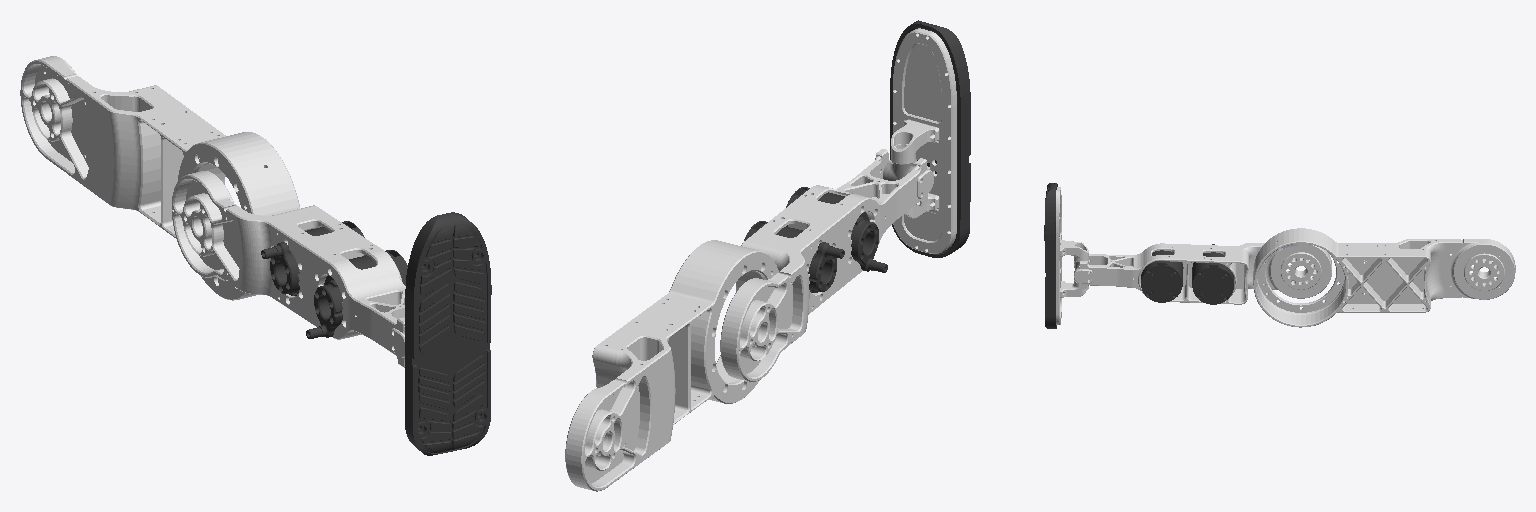
robot.urdf — right_leg:
<!--URDF generated by ONSHAPE BY PTC INC, 1.222-->
<robot name="right_leg">
    <link name="ankle_output_rotor">
        <inertial>
            <mass value="8.40688e-06" />
            <origin xyz="-9.67116e-05 -0.0163581 0.0065907" rpy="0 -0 0" />
            <inertia ixx="1.41838e-09" ixy="2.32387e-12" ixz="-6.50814e-13" iyy="9.10836e-10" iyz="1.94519e-10" izz="1.88528e-09" />
        </inertial>
        <visual>
            <origin xyz="0 -0.0135 0" rpy="0 -0 0" />
            <geometry>
                <mesh filename="package://rpo_description/models/right_leg/meshes/Ankle_Output_Rotor.stl" scale="1 1 1" />
            </geometry>
            <material name="0.301961_0.301961_0.301961_0.000000_0.000000">
                <color rgba="0.301961 0.301961 0.301961 1" />
            </material>
        </visual>
    </link>
    <link name="ankle_output_rotor_1">
        <inertial>
            <mass value="8.40688e-06" />
            <origin xyz="-9.67116e-05 0.0171419 0.000590696" rpy="0 -0 0" />
            <inertia ixx="1.41838e-09" ixy="2.32387e-12" ixz="-6.50814e-13" iyy="9.10836e-10" iyz="1.94519e-10" izz="1.88528e-09" />
        </inertial>
        <visual>
            <origin xyz="-1.11022e-16 0.02 -0.006" rpy="0 -0 0" />
            <geometry>
                <mesh filename="package://rpo_description/models/right_leg/meshes/Ankle_Output_Rotor.stl" scale="1 1 1" />
            </geometry>
            <material name="0.301961_0.301961_0.301961_0.000000_0.000000">
                <color rgba="0.301961 0.301961 0.301961 1" />
            </material>
        </visual>
    </link>
    <link name="ankle_roll_connector">
        <inertial>
            <mass value="0.0244676" />
            <origin xyz="-0.0135883 1.17113e-10 0.00894033" rpy="0 -0 0" />
            <inertia ixx="1.96726e-06" ixy="-2.15704e-13" ixz="6.97914e-07" iyy="3.58959e-06" iyz="-1.66756e-13" izz="4.22144e-06" />
        </inertial>
        <visual>
            <origin xyz="0 0 0" rpy="0 -0 0" />
            <geometry>
                <mesh filename="package://rpo_description/models/right_leg/meshes/Ankle_Roll_Connector.stl" scale="1 1 1" />
            </geometry>
            <material name="0.901961_0.901961_0.901961_0.000000_0.000000">
                <color rgba="0.901961 0.901961 0.901961 1" />
            </material>
        </visual>
    </link>
    <link name="ankle_roll_connector_1">
        <inertial>
            <mass value="0.0244676" />
            <origin xyz="0.0164117 -0.0135 -0.00205967" rpy="0 -0 0" />
            <inertia ixx="1.96726e-06" ixy="-2.15704e-13" ixz="6.97914e-07" iyy="3.58959e-06" iyz="-1.66756e-13" izz="4.22144e-06" />
        </inertial>
        <visual>
            <origin xyz="0.03 -0.0135 -0.011" rpy="0 -0 0" />
            <geometry>
                <mesh filename="package://rpo_description/models/right_leg/meshes/Ankle_Roll_Connector.stl" scale="1 1 1" />
            </geometry>
            <material name="0.901961_0.901961_0.901961_0.000000_0.000000">
                <color rgba="0.901961 0.901961 0.901961 1" />
            </material>
        </visual>
    </link>
    <link name="calf_bearing_lock">
        <inertial>
            <mass value="0.00539699" />
            <origin xyz="-0.0065 0.00104518 0.0115429" rpy="0 -0 0" />
            <inertia ixx="2.2032e-07" ixy="-9.30297e-14" ixz="-3.46566e-14" iyy="4.8131e-07" iyz="-3.24215e-08" izz="3.21263e-07" />
        </inertial>
        <visual>
            <origin xyz="-0.0065 0.002575 0.011" rpy="0 -0 0" />
            <geometry>
                <mesh filename="package://rpo_description/models/right_leg/meshes/Calf_Bearing_Lock.stl" scale="1 1 1" />
            </geometry>
            <material name="0.901961_0.901961_0.901961_0.000000_0.000000">
                <color rgba="0.901961 0.901961 0.901961 1" />
            </material>
        </visual>
    </link>
    <link name="calf_bearing_lock_1">
        <inertial>
            <mass value="0.00539699" />
            <origin xyz="0.0065 0.00104518 0.0115429" rpy="0 -0 0" />
            <inertia ixx="2.2032e-07" ixy="-9.30297e-14" ixz="-3.46566e-14" iyy="4.8131e-07" iyz="-3.24215e-08" izz="3.21263e-07" />
        </inertial>
        <visual>
            <origin xyz="0.0065 0.002575 0.011" rpy="0 -0 0" />
            <geometry>
                <mesh filename="package://rpo_description/models/right_leg/meshes/Calf_Bearing_Lock.stl" scale="1 1 1" />
            </geometry>
            <material name="0.901961_0.901961_0.901961_0.000000_0.000000">
                <color rgba="0.901961 0.901961 0.901961 1" />
            </material>
        </visual>
    </link>
    <link name="cross_bearing">
        <inertial>
            <mass value="0.106467" />
            <origin xyz="0.02 1.59792e-08 -7.24723e-10" rpy="-0.0453231 0 0" />
            <inertia ixx="1.09387e-05" ixy="0" ixz="-3.96261e-12" iyy="1.09387e-05" iyz="2.74815e-12" izz="1.83474e-05" />
        </inertial>
        <visual>
            <origin xyz="0.02 0 0" rpy="-0.0453231 0 0" />
            <geometry>
                <mesh filename="package://rpo_description/models/right_leg/meshes/Cross_Bearing.stl" scale="1 1 1" />
            </geometry>
            <material name="0.647059_0.647059_0.647059_0.000000_0.000000">
                <color rgba="0.647059 0.647059 0.647059 1" />
            </material>
        </visual>
    </link>
    <link name="dm_j10010l_controller_cover">
        <inertial>
            <mass value="0.0654346" />
            <origin xyz="0.000330359 -0.016759 -0.0004492" rpy="0 -0 0" />
            <inertia ixx="3.4306e-05" ixy="-8.34269e-09" ixz="-3.55418e-09" iyy="8.55932e-05" iyz="1.30568e-08" izz="5.25956e-05" />
        </inertial>
        <visual>
            <origin xyz="0 0 0" rpy="0 -0 0" />
            <geometry>
                <mesh filename="package://rpo_description/models/right_leg/meshes/DM_J10010L_Controller_Cover.stl" scale="1 1 1" />
            </geometry>
            <material name="0.301961_0.301961_0.301961_0.000000_0.000000">
                <color rgba="0.301961 0.301961 0.301961 1" />
            </material>
        </visual>
    </link>
    <link name="dm_j10010l_rotor__1_">
        <inertial>
            <mass value="1e-09" />
            <origin xyz="0 0.0659355 0" rpy="0 -0 0" />
            <inertia ixx="4e-14" ixy="0" ixz="0" iyy="4e-14" iyz="0" izz="4e-14" />
        </inertial>
    </link>
    <link name="dm_j10010l_side_cover">
        <inertial>
            <mass value="1.14945e-06" />
            <origin xyz="-0.0562683 -0.0443987 0.015077" rpy="0 -0 0" />
            <inertia ixx="1.73548e-10" ixy="-2.40819e-13" ixz="-1.52799e-11" iyy="6.36914e-11" iyz="6.4655e-14" izz="1.20616e-10" />
        </inertial>
        <visual>
            <origin xyz="0 0 0" rpy="0 -0 0" />
            <geometry>
                <mesh filename="package://rpo_description/models/right_leg/meshes/DM_J10010L_Side_Cover.stl" scale="1 1 1" />
            </geometry>
            <material name="0.796078_0.823529_0.937255_0.000000_0.000000">
                <color rgba="0.796078 0.823529 0.937255 1" />
            </material>
        </visual>
    </link>
    <link name="dm_j10010l_stator">
        <inertial>
            <mass value="0.898759" />
            <origin xyz="0.000609351 -0.0450242 -7.18945e-06" rpy="0 -0 0" />
            <inertia ixx="0.00108312" ixy="-2.87816e-06" ixz="-3.7651e-06" iyy="0.00191736" iyz="-1.37112e-06" izz="0.00106089" />
        </inertial>
        <visual>
            <origin xyz="0 0 0" rpy="0 -0 0" />
            <geometry>
                <mesh filename="package://rpo_description/models/right_leg/meshes/DM_J10010L_Stator.stl" scale="1 1 1" />
            </geometry>
        </visual>
    </link>
    <link name="dm_j4340_controller_cover">
        <inertial>
            <mass value="0.0142077" />
            <origin xyz="-0.00195101 0.0545971 -3.68604e-07" rpy="0 -0 0" />
            <inertia ixx="2.95073e-06" ixy="-3.07787e-08" ixz="-5.54113e-12" iyy="6.3453e-06" iyz="-5.15569e-12" izz="3.47772e-06" />
        </inertial>
        <visual>
            <origin xyz="0 0 0" rpy="0 -0 0" />
            <geometry>
                <mesh filename="package://rpo_description/models/right_leg/meshes/DM_J4340_Controller_Cover.stl" scale="1 1 1" />
            </geometry>
            <material name="0.301961_0.301961_0.301961_0.000000_0.000000">
                <color rgba="0.301961 0.301961 0.301961 1" />
            </material>
        </visual>
    </link>
    <link name="dm_j4340_controller_cover_1">
        <inertial>
            <mass value="0.0142077" />
            <origin xyz="-0.00195101 0.0545971 -3.68604e-07" rpy="0 -0 0" />
            <inertia ixx="2.95073e-06" ixy="-3.07787e-08" ixz="-5.54113e-12" iyy="6.3453e-06" iyz="-5.15569e-12" izz="3.47772e-06" />
        </inertial>
        <visual>
            <origin xyz="0 0 0" rpy="0 -0 0" />
            <geometry>
                <mesh filename="package://rpo_description/models/right_leg/meshes/DM_J4340_Controller_Cover.stl" scale="1 1 1" />
            </geometry>
            <material name="0.301961_0.301961_0.301961_0.000000_0.000000">
                <color rgba="0.301961 0.301961 0.301961 1" />
            </material>
        </visual>
    </link>
    <link name="dm_j4340_motor">
        <inertial>
            <mass value="0.995728" />
            <origin xyz="-1.22678e-18 0.0254278 -8.25923e-19" rpy="0 -0 0" />
            <inertia ixx="0.000398107" ixy="0" ixz="-8.86886e-08" iyy="0.000402328" iyz="0" izz="0.000398414" />
        </inertial>
        <visual>
            <origin xyz="0 -0.00025 0" rpy="0 -0 0" />
            <geometry>
                <mesh filename="package://rpo_description/models/right_leg/meshes/DM_J4340_Motor.stl" scale="1 1 1" />
            </geometry>
            <material name="0.301961_0.301961_0.301961_0.000000_0.000000">
                <color rgba="0.301961 0.301961 0.301961 1" />
            </material>
        </visual>
    </link>
    <link name="dm_j4340_motor_1">
        <inertial>
            <mass value="0.995728" />
            <origin xyz="-1.22678e-18 0.0254278 -8.25923e-19" rpy="0 -0 0" />
            <inertia ixx="0.000398107" ixy="0" ixz="-8.86886e-08" iyy="0.000402328" iyz="0" izz="0.000398414" />
        </inertial>
        <visual>
            <origin xyz="0 -0.00025 0" rpy="0 -0 0" />
            <geometry>
                <mesh filename="package://rpo_description/models/right_leg/meshes/DM_J4340_Motor.stl" scale="1 1 1" />
            </geometry>
            <material name="0.301961_0.301961_0.301961_0.000000_0.000000">
                <color rgba="0.301961 0.301961 0.301961 1" />
            </material>
        </visual>
    </link>
    <link name="foot">
        <inertial>
            <mass value="0.145168" />
            <origin xyz="-0.0459727 0.0135 0.00191236" rpy="0 -0 0" />
            <inertia ixx="5.63586e-05" ixy="1.01226e-10" ixz="1.23165e-08" iyy="0.000441189" iyz="-1.16112e-10" izz="0.000495552" />
        </inertial>
        <visual>
            <origin xyz="-0.011 0.0135 -0.002" rpy="0 -0 0" />
            <geometry>
                <mesh filename="package://rpo_description/models/right_leg/meshes/Foot.stl" scale="1 1 1" />
            </geometry>
            <material name="0.901961_0.901961_0.901961_0.000000_0.000000">
                <color rgba="0.901961 0.901961 0.901961 1" />
            </material>
        </visual>
    </link>
    <link name="foot_pad">
        <inertial>
            <mass value="0.175914" />
            <origin xyz="-0.0239242 -0.0686595 -0.0027759" rpy="0 -0 0" />
            <inertia ixx="0.00059297" ixy="3.03267e-10" ixz="-1.40779e-11" iyy="6.76655e-05" iyz="-2.0499e-06" izz="0.000654898" />
        </inertial>
        <visual>
            <origin xyz="-2.02177 0.382688 -0.01" rpy="0 -0 0" />
            <geometry>
                <mesh filename="package://rpo_description/models/right_leg/meshes/Foot_Pad.stl" scale="1 1 1" />
            </geometry>
            <material name="0.301961_0.301961_0.301961_0.000000_0.000000">
                <color rgba="0.301961 0.301961 0.301961 1" />
            </material>
        </visual>
    </link>
    <link name="lower_leg">
        <inertial>
            <mass value="0.652933" />
            <origin xyz="0.00498479 -0.120851 -0.00700196" rpy="0 -0 0.0412216" />
            <inertia ixx="0.00564015" ixy="2.11402e-08" ixz="2.48546e-09" iyy="0.000484705" iyz="-0.000583008" izz="0.00570798" />
        </inertial>
        <visual>
            <origin xyz="1.87219e-17 5.56356e-16 0" rpy="0 -0 0.0412216" />
            <geometry>
                <mesh filename="package://rpo_description/models/right_leg/meshes/Lower_Leg.stl" scale="1 1 1" />
            </geometry>
            <material name="0.901961_0.901961_0.901961_0.000000_0.000000">
                <color rgba="0.901961 0.901961 0.901961 1" />
            </material>
        </visual>
    </link>
    <link name="mate_connector_1">
        <inertial>
            <mass value="1e-09" />
            <origin xyz="0 0 0" rpy="0 -0 0" />
            <inertia ixx="4e-14" ixy="0" ixz="0" iyy="4e-14" iyz="0" izz="4e-14" />
        </inertial>
    </link>
    <link name="root" />
    <link name="upper_leg">
        <inertial>
            <mass value="0.862647" />
            <origin xyz="-5.96863e-06 -0.134451 -0.00677772" rpy="0 -0 0" />
            <inertia ixx="0.00774349" ixy="-7.57053e-07" ixz="-7.59938e-08" iyy="0.00111424" iyz="-0.00055949" izz="0.00842932" />
        </inertial>
        <visual>
            <origin xyz="-1.04228e-18 -1.3045e-14 -0.001" rpy="0 -0 0" />
            <geometry>
                <mesh filename="package://rpo_description/models/right_leg/meshes/Upper_Leg.stl" scale="1 1 1" />
            </geometry>
            <material name="0.901961_0.901961_0.901961_0.000000_0.000000">
                <color rgba="0.901961 0.901961 0.901961 1" />
            </material>
        </visual>
    </link>
    <joint name="fastened_1" type="fixed">
        <origin xyz="0 0 0" rpy="0 -1.5708 0" />
        <axis xyz="0 0 1" />
        <parent link="root" />
        <child link="upper_leg" />
    </joint>
    <joint name="fastened_10" type="fixed">
        <origin xyz="-0.0171489 -0.190869 0.0055" rpy="-8.26722e-16 -3.55435e-16 -1.52957" />
        <axis xyz="0 0 -1" />
        <parent link="lower_leg" />
        <child link="ankle_output_rotor_1" />
    </joint>
    <joint name="fastened_12" type="fixed">
        <origin xyz="8.88178e-16 -0.00025 0.0135" rpy="1.5708 -4.9995e-16 -1.68719e-16" />
        <axis xyz="-0 -0 -1" />
        <parent link="dm_j4340_motor" />
        <child link="ankle_output_rotor" />
    </joint>
    <joint name="fastened_2" type="fixed">
        <origin xyz="-2.77556e-17 -0.25 0.0035" rpy="-1.5708 -0 3.14159" />
        <axis xyz="0 -1 0" />
        <parent link="upper_leg" />
        <child link="dm_j10010l_rotor__1_" />
    </joint>
    <joint name="fastened_3" type="fixed">
        <origin xyz="0.00782989 -0.189839 -0.0005" rpy="-1.5708 5.55112e-17 1.61202" />
        <axis xyz="0 -1 0" />
        <parent link="lower_leg" />
        <child link="dm_j4340_motor_1" />
    </joint>
    <joint name="fastened_4" type="fixed">
        <origin xyz="0.00494519 -0.119898 -0.0005" rpy="-1.5708 -2.22045e-16 1.61202" />
        <axis xyz="0 -1 0" />
        <parent link="lower_leg" />
        <child link="dm_j4340_motor" />
    </joint>
    <joint name="fastened_5" type="fixed">
        <origin xyz="0.0054152 -0.289022 0.002575" rpy="-1.5708 -1.66533e-16 -3.10037" />
        <axis xyz="0 1 0" />
        <parent link="lower_leg" />
        <child link="calf_bearing_lock" />
    </joint>
    <joint name="fastened_6" type="fixed">
        <origin xyz="0.0054152 -0.289022 -0.041275" rpy="1.5708 3.81639e-17 0.0412216" />
        <axis xyz="0 1 0" />
        <parent link="lower_leg" />
        <child link="calf_bearing_lock_1" />
    </joint>
    <joint name="fastened_7" type="fixed">
        <origin xyz="-0.03 -0.0135 0.011" rpy="0 -1.5708 1.32271e-15" />
        <axis xyz="-0 -0 -1" />
        <parent link="ankle_roll_connector" />
        <child link="foot" />
    </joint>
    <joint name="fastened_8" type="fixed">
        <origin xyz="-0.062 6.50868e-15 1.11022e-16" rpy="0 1.5708 -3.14159" />
        <axis xyz="-1 -0 -0" />
        <parent link="foot" />
        <child link="ankle_roll_connector_1" />
    </joint>
    <joint name="fastened_9" type="fixed">
        <origin xyz="-0.1195 -0.0104242 0.008" rpy="-3.14159 1.07382e-15 -1.5708" />
        <axis xyz="-0 -0 1" />
        <parent link="foot" />
        <child link="foot_pad" />
    </joint>
    <joint name="group_1_fastened_joint" type="fixed">
        <origin xyz="0 -0.00025 0" rpy="-1.92593e-34 6.04485e-67 6.27733e-33" />
        <axis xyz="0 0 1" />
        <parent link="dm_j4340_motor_1" />
        <child link="dm_j4340_controller_cover_1" />
    </joint>
    <joint name="group_1_fastened_joint_1" type="fixed">
        <origin xyz="0 0.0659355 0" rpy="0 -0 0" />
        <axis xyz="0 0 1" />
        <parent link="dm_j10010l_rotor__1_" />
        <child link="dm_j10010l_stator" />
    </joint>
    <joint name="group_1_fastened_joint_2" type="fixed">
        <origin xyz="0 0.0659355 0" rpy="0 -0 0" />
        <axis xyz="-0 -0 -1" />
        <parent link="dm_j10010l_rotor__1_" />
        <child link="dm_j10010l_side_cover" />
    </joint>
    <joint name="group_1_fastened_joint_3" type="fixed">
        <origin xyz="0 0 0" rpy="0 -0 0" />
        <axis xyz="-0 -0 -1" />
        <parent link="dm_j10010l_side_cover" />
        <child link="dm_j10010l_controller_cover" />
    </joint>
    <joint name="group_1_fastened_joint_4" type="fixed">
        <origin xyz="0 -0.00025 0" rpy="-1.2326e-32 -4.74778e-65 -7.70372e-33" />
        <axis xyz="0 0 1" />
        <parent link="dm_j4340_motor" />
        <child link="dm_j4340_controller_cover" />
    </joint>
    <joint name="mate_connector_1" type="fixed">
        <origin xyz="0 0 0.0185" rpy="-1.1204e-32 6.0112e-33 0.0412216" />
        <axis xyz="0 0 1" />
        <parent link="lower_leg" />
        <child link="mate_connector_1" />
    </joint>
    <joint name="right_ankle_pitch_joint" type="revolute">
        <origin xyz="0.0065 0.001925 0.011" rpy="2.24951e-16 4.5496e-17 1.5708" />
        <axis xyz="-1 0 0" />
        <parent link="calf_bearing_lock_1" />
        <child link="cross_bearing" />
        <limit effort="1" velocity="1" lower="-0.645323" upper="0.554677" />
    </joint>
    <joint name="right_ankle_roll_joint" type="revolute">
        <origin xyz="0.02 0.0199795 -0.000906151" rpy="2.22003 1.49578 -2.49372" />
        <axis xyz="-0 -0 -1" />
        <parent link="cross_bearing" />
        <child link="ankle_roll_connector" />
        <limit effort="1" velocity="1" lower="-0.440209" upper="0.559791" />
    </joint>
    <joint name="right_knee_joint" type="revolute">
        <origin xyz="7.36018e-20 -0.0654355 -5.55112e-17" rpy="-1.5708 -4.41474e-16 -3.14159" />
        <axis xyz="0 0 -1" />
        <parent link="dm_j10010l_stator" />
        <child link="lower_leg" />
        <limit effort="1" velocity="1" lower="-0.158778" upper="2.54122" />
    </joint>
</robot>

--- What the picture shows (computed from the rendered views, not written in the file) ---
3 views of the same robot in one strip: view 1: azimuth 30°, elevation 25°; view 2: azimuth 150°, elevation 25°; view 3: azimuth 270°, elevation 25° (orthographic).
Model right_leg with 21 links and 20 joints (3 revolute, 17 fixed), rooted at root, posed every joint at zero.
Visible links, largest first — view 1: upper_leg, lower_leg, foot_pad, ankle_output_rotor_1, ankle_output_rotor; view 2: upper_leg, lower_leg, foot, foot_pad, ankle_roll_connector_1, ankle_output_rotor_1, ankle_output_rotor; view 3: upper_leg, lower_leg, foot_pad, dm_j4340_controller_cover_1, dm_j4340_controller_cover, foot.
Boxes of the visible links, <box> form: upper_leg: <box>20,56,299,300</box>; lower_leg: <box>172,171,405,366</box>; foot_pad: <box>405,212,491,455</box>; ankle_output_rotor_1: <box>306,280,342,338</box>; ankle_output_rotor: <box>261,242,299,295</box>; upper_leg: <box>565,240,778,491</box>; lower_leg: <box>720,150,926,381</box>; foot: <box>892,28,956,253</box>; foot_pad: <box>890,20,970,257</box>; ankle_roll_connector_1: <box>891,120,938,164</box>; ankle_output_rotor_1: <box>851,216,887,272</box>; ankle_output_rotor: <box>808,242,844,292</box>; upper_leg: <box>1253,228,1515,327</box>; lower_leg: <box>1081,243,1331,304</box>; foot_pad: <box>1044,183,1057,328</box>; dm_j4340_controller_cover_1: <box>1141,264,1182,302</box>; dm_j4340_controller_cover: <box>1192,265,1233,304</box>; foot: <box>1056,187,1061,324</box>.
Size in the robot's own frame: 0.0838 by 0.6425 by 0.21 metres.
Meshes: 13 distinct files referenced, 16 mesh visuals loaded (11 binary STL); not drawn: 2 (reference not matched to a file when rendering).
